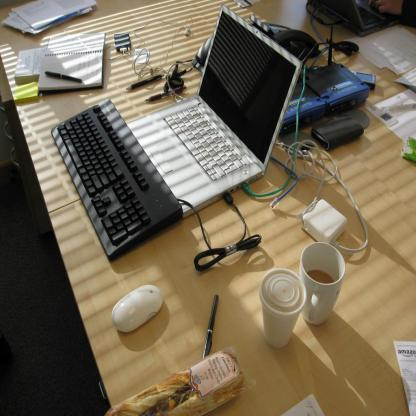board: (126, 5, 298, 220), (260, 268, 306, 350), (307, 0, 399, 37)
